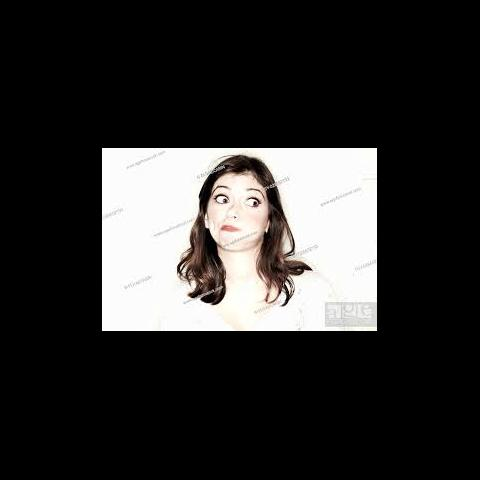opened: (213, 182, 270, 214)
